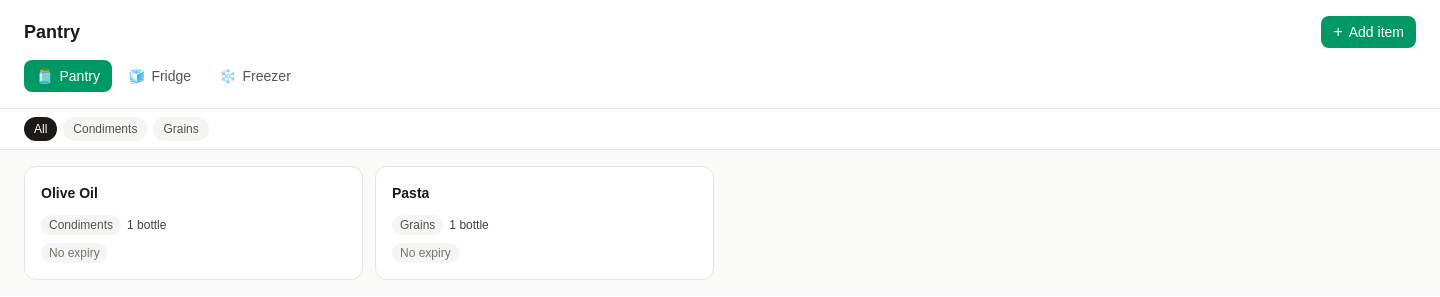
Test case: PantryPage › hides items that don't match the selected category filter
Expected: the text "Pasta" is shown, [392,183,429,203]
Click the button "Condiments" at {"x": 105, "y": 129}, box [63,117,147,141]
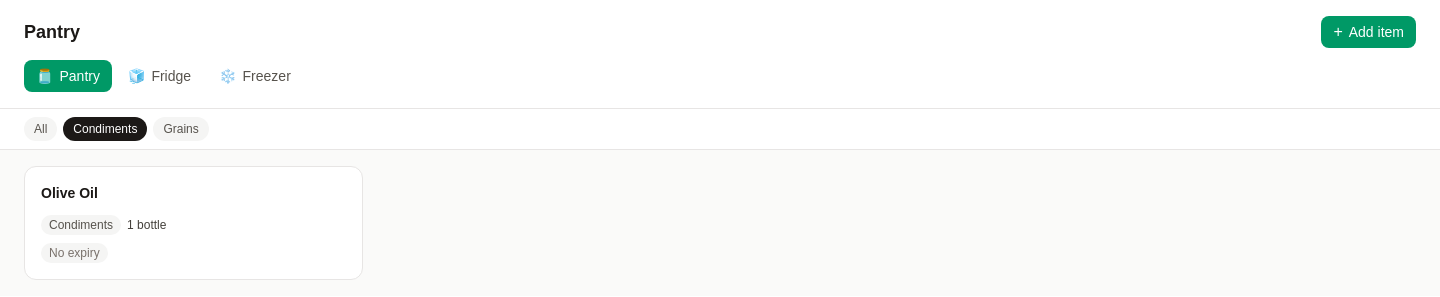
Expected: the text "Olive Oil" is shown, [41,183,98,203]
Expected: the text "Pasta" is gone
